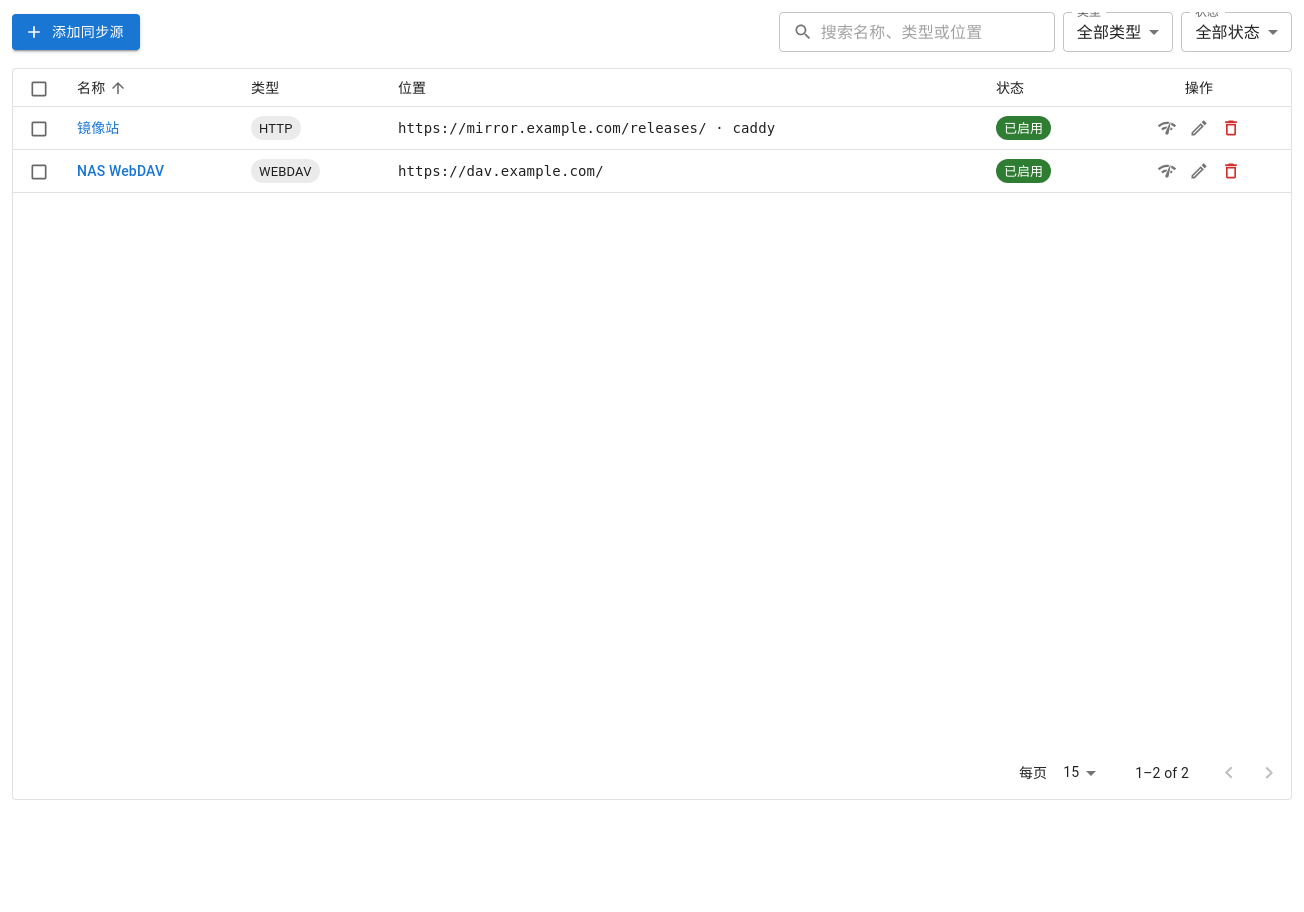
Test: HTTP 源显示 HTTP 类型与 base_url 位置摘要，并可按类型筛选
Expected: the text "HTTP" is shown, [259,120,293,136]
Expected: the text "https://mirror.example.com/releases/ · caddy" is shown, [382,107,980,150]
Press the mouse on the dropdown labelled "类型" at coordinates (1109, 32), box [1077,22,1141,42]
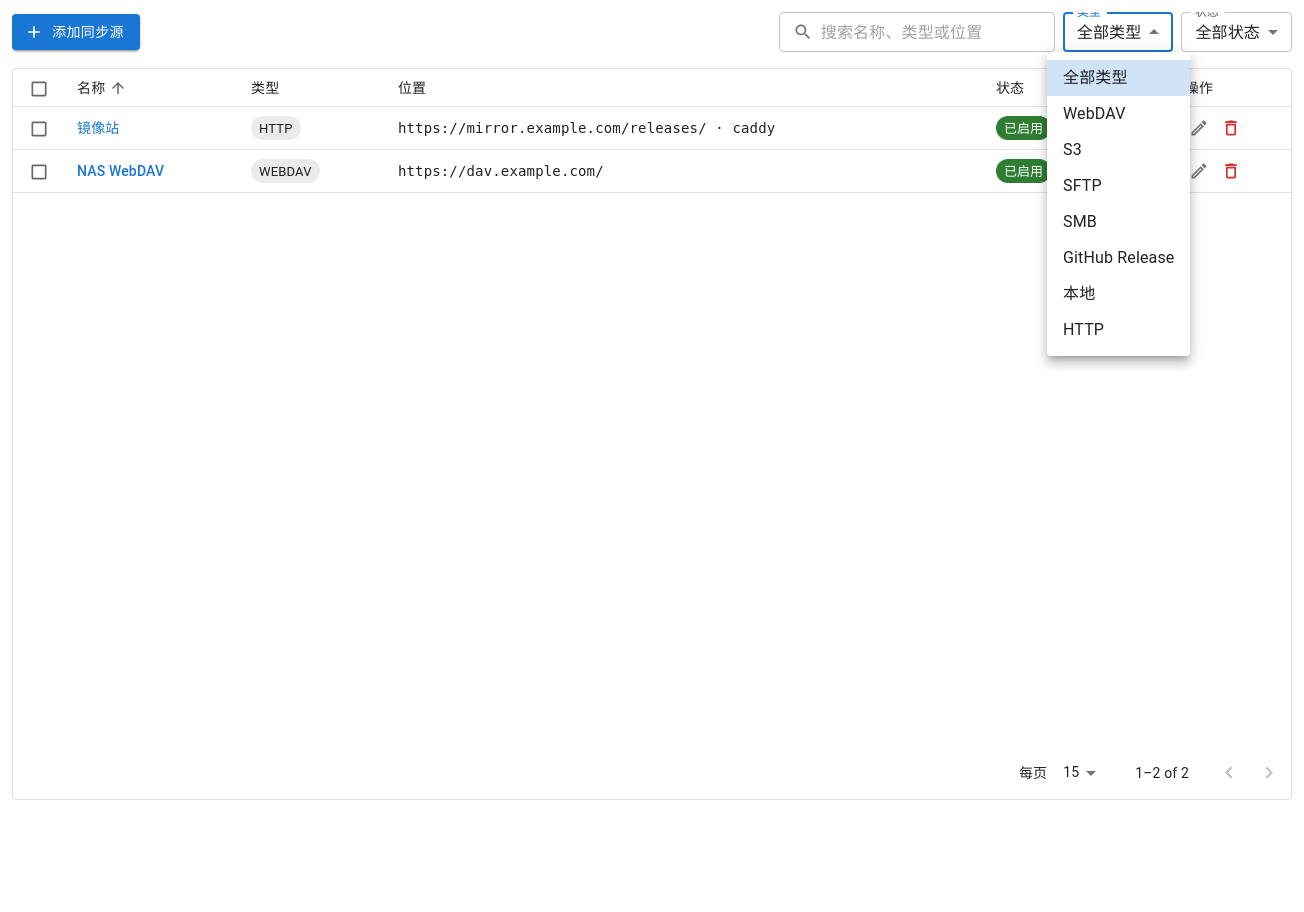
Click the option "HTTP". click: coordinates (1084, 330)
box: [1063,320,1104,339]
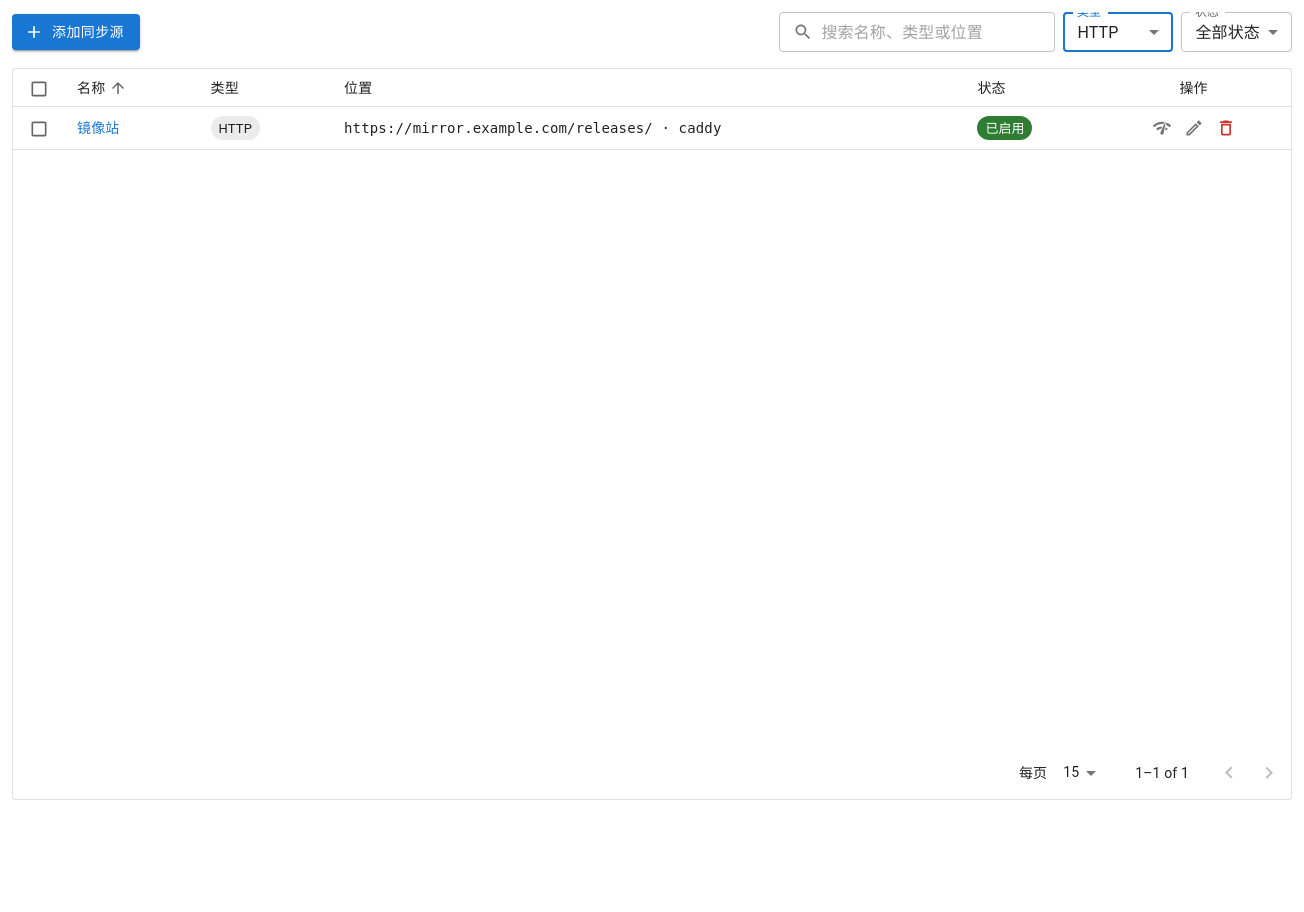
Expected: the link "镜像站" is shown, [77,120,120,136]
Now the link "NAS WebDAV" is gone
